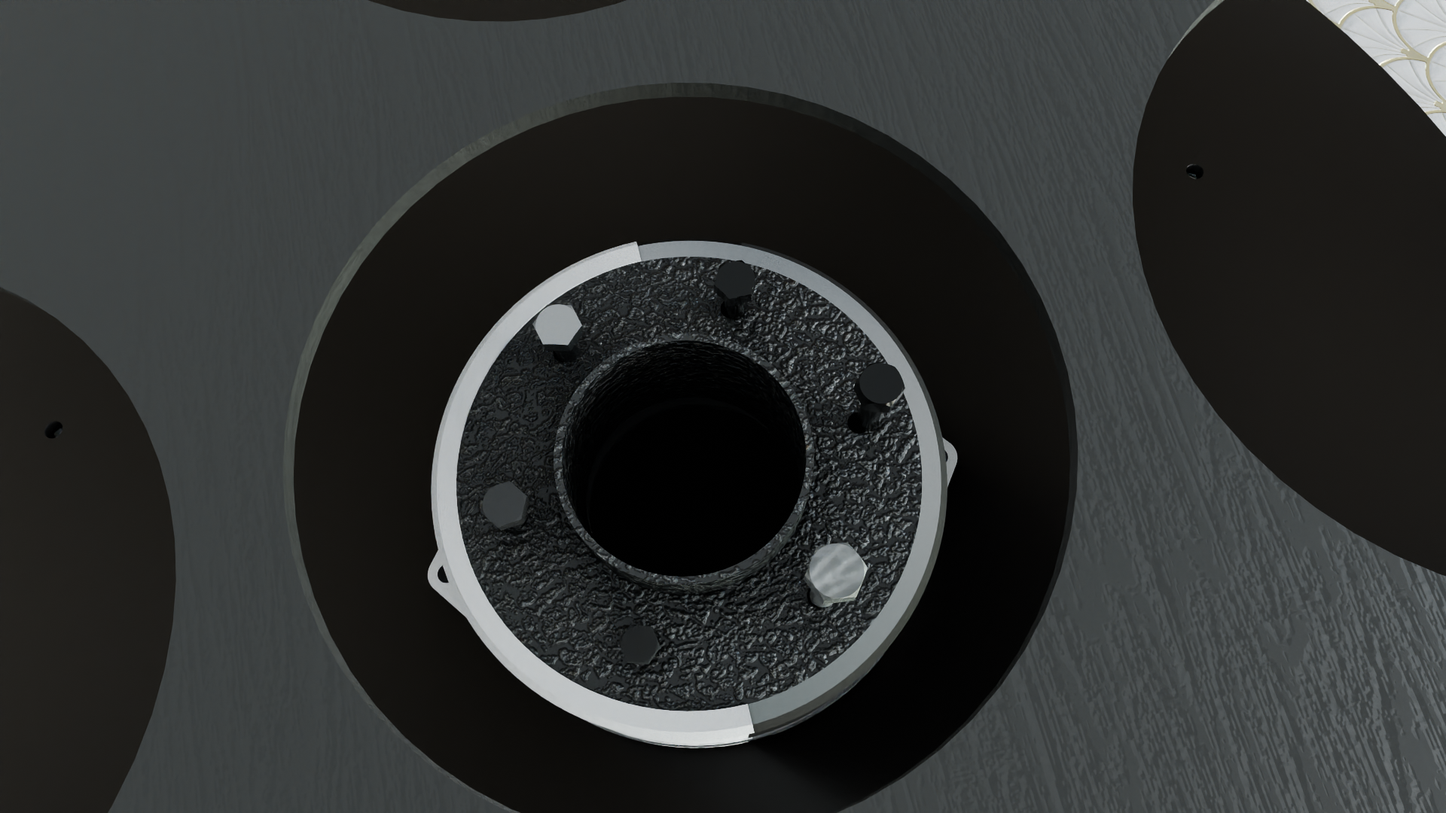bolt: (805, 543, 868, 601), (856, 363, 905, 407), (480, 481, 526, 527), (532, 304, 582, 345), (714, 260, 757, 300), (618, 625, 660, 663)
